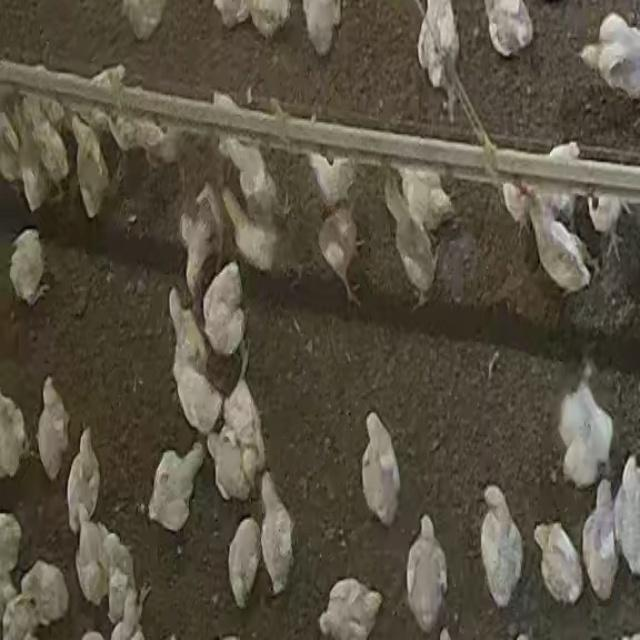chicken: (380, 172, 442, 314), (168, 288, 222, 438), (557, 362, 614, 490), (522, 193, 590, 298), (219, 121, 283, 229), (316, 200, 372, 318), (217, 182, 282, 282), (477, 480, 528, 606), (399, 513, 451, 635), (356, 409, 403, 527), (198, 258, 257, 351), (258, 468, 298, 600), (221, 374, 265, 491), (178, 182, 222, 299), (147, 444, 202, 534), (580, 478, 618, 601), (533, 519, 583, 606), (72, 114, 112, 221), (318, 578, 382, 640), (66, 426, 102, 535), (16, 559, 71, 629), (36, 376, 71, 482), (8, 228, 54, 308), (226, 515, 262, 608), (0, 382, 27, 480), (485, 0, 532, 56)
